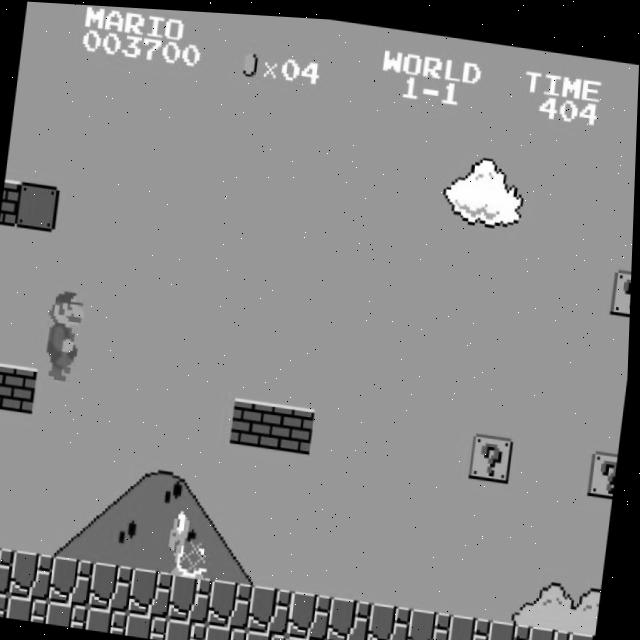0- big_mario: (39, 282, 92, 382)
1- brick_block: (232, 394, 278, 445), (272, 399, 318, 450), (0, 362, 40, 413), (0, 179, 21, 226)
10- koopa: (167, 504, 218, 577)
13- mystery_block: (471, 426, 517, 477), (590, 442, 621, 491), (611, 260, 633, 309)
17- undestructible_block: (12, 549, 59, 600), (91, 560, 138, 611), (131, 565, 178, 616), (171, 570, 218, 621), (290, 586, 337, 637), (52, 554, 98, 605), (211, 576, 257, 627), (251, 581, 297, 632), (330, 592, 377, 640), (370, 597, 416, 640), (410, 602, 456, 640), (450, 608, 496, 640), (489, 613, 535, 640), (9, 594, 53, 622), (49, 600, 93, 628), (89, 605, 133, 633), (129, 610, 172, 638), (528, 618, 575, 640), (169, 616, 212, 640), (0, 544, 18, 595), (208, 621, 252, 640), (248, 626, 292, 640), (568, 622, 600, 640), (287, 631, 331, 640), (0, 589, 13, 616), (327, 637, 371, 640)
3- empty_block: (15, 181, 61, 231)
